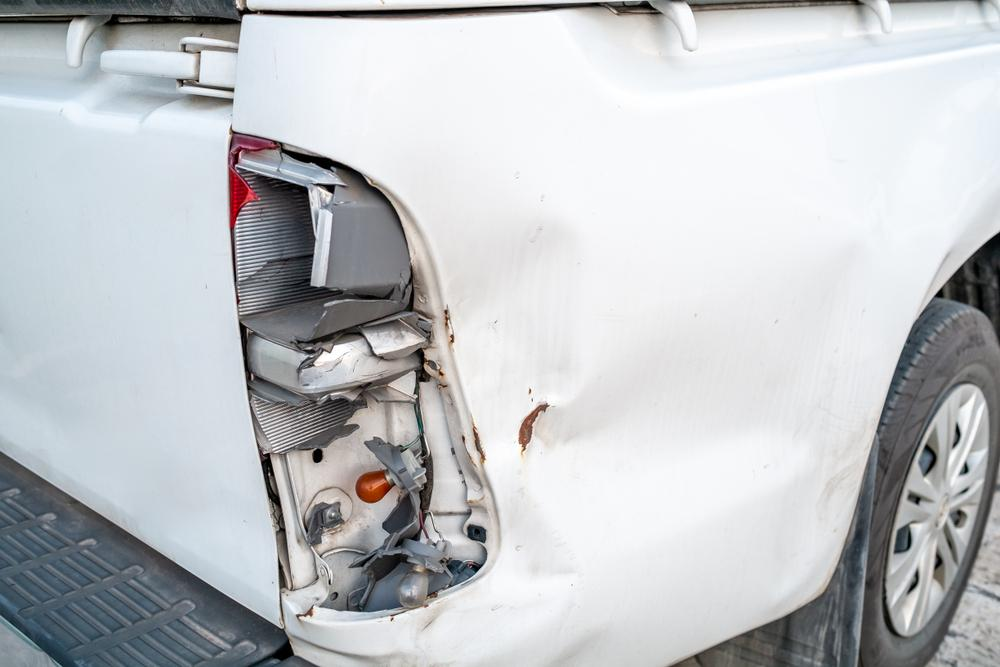dent: (395, 212, 834, 667)
lamp broken: (231, 132, 490, 609)
